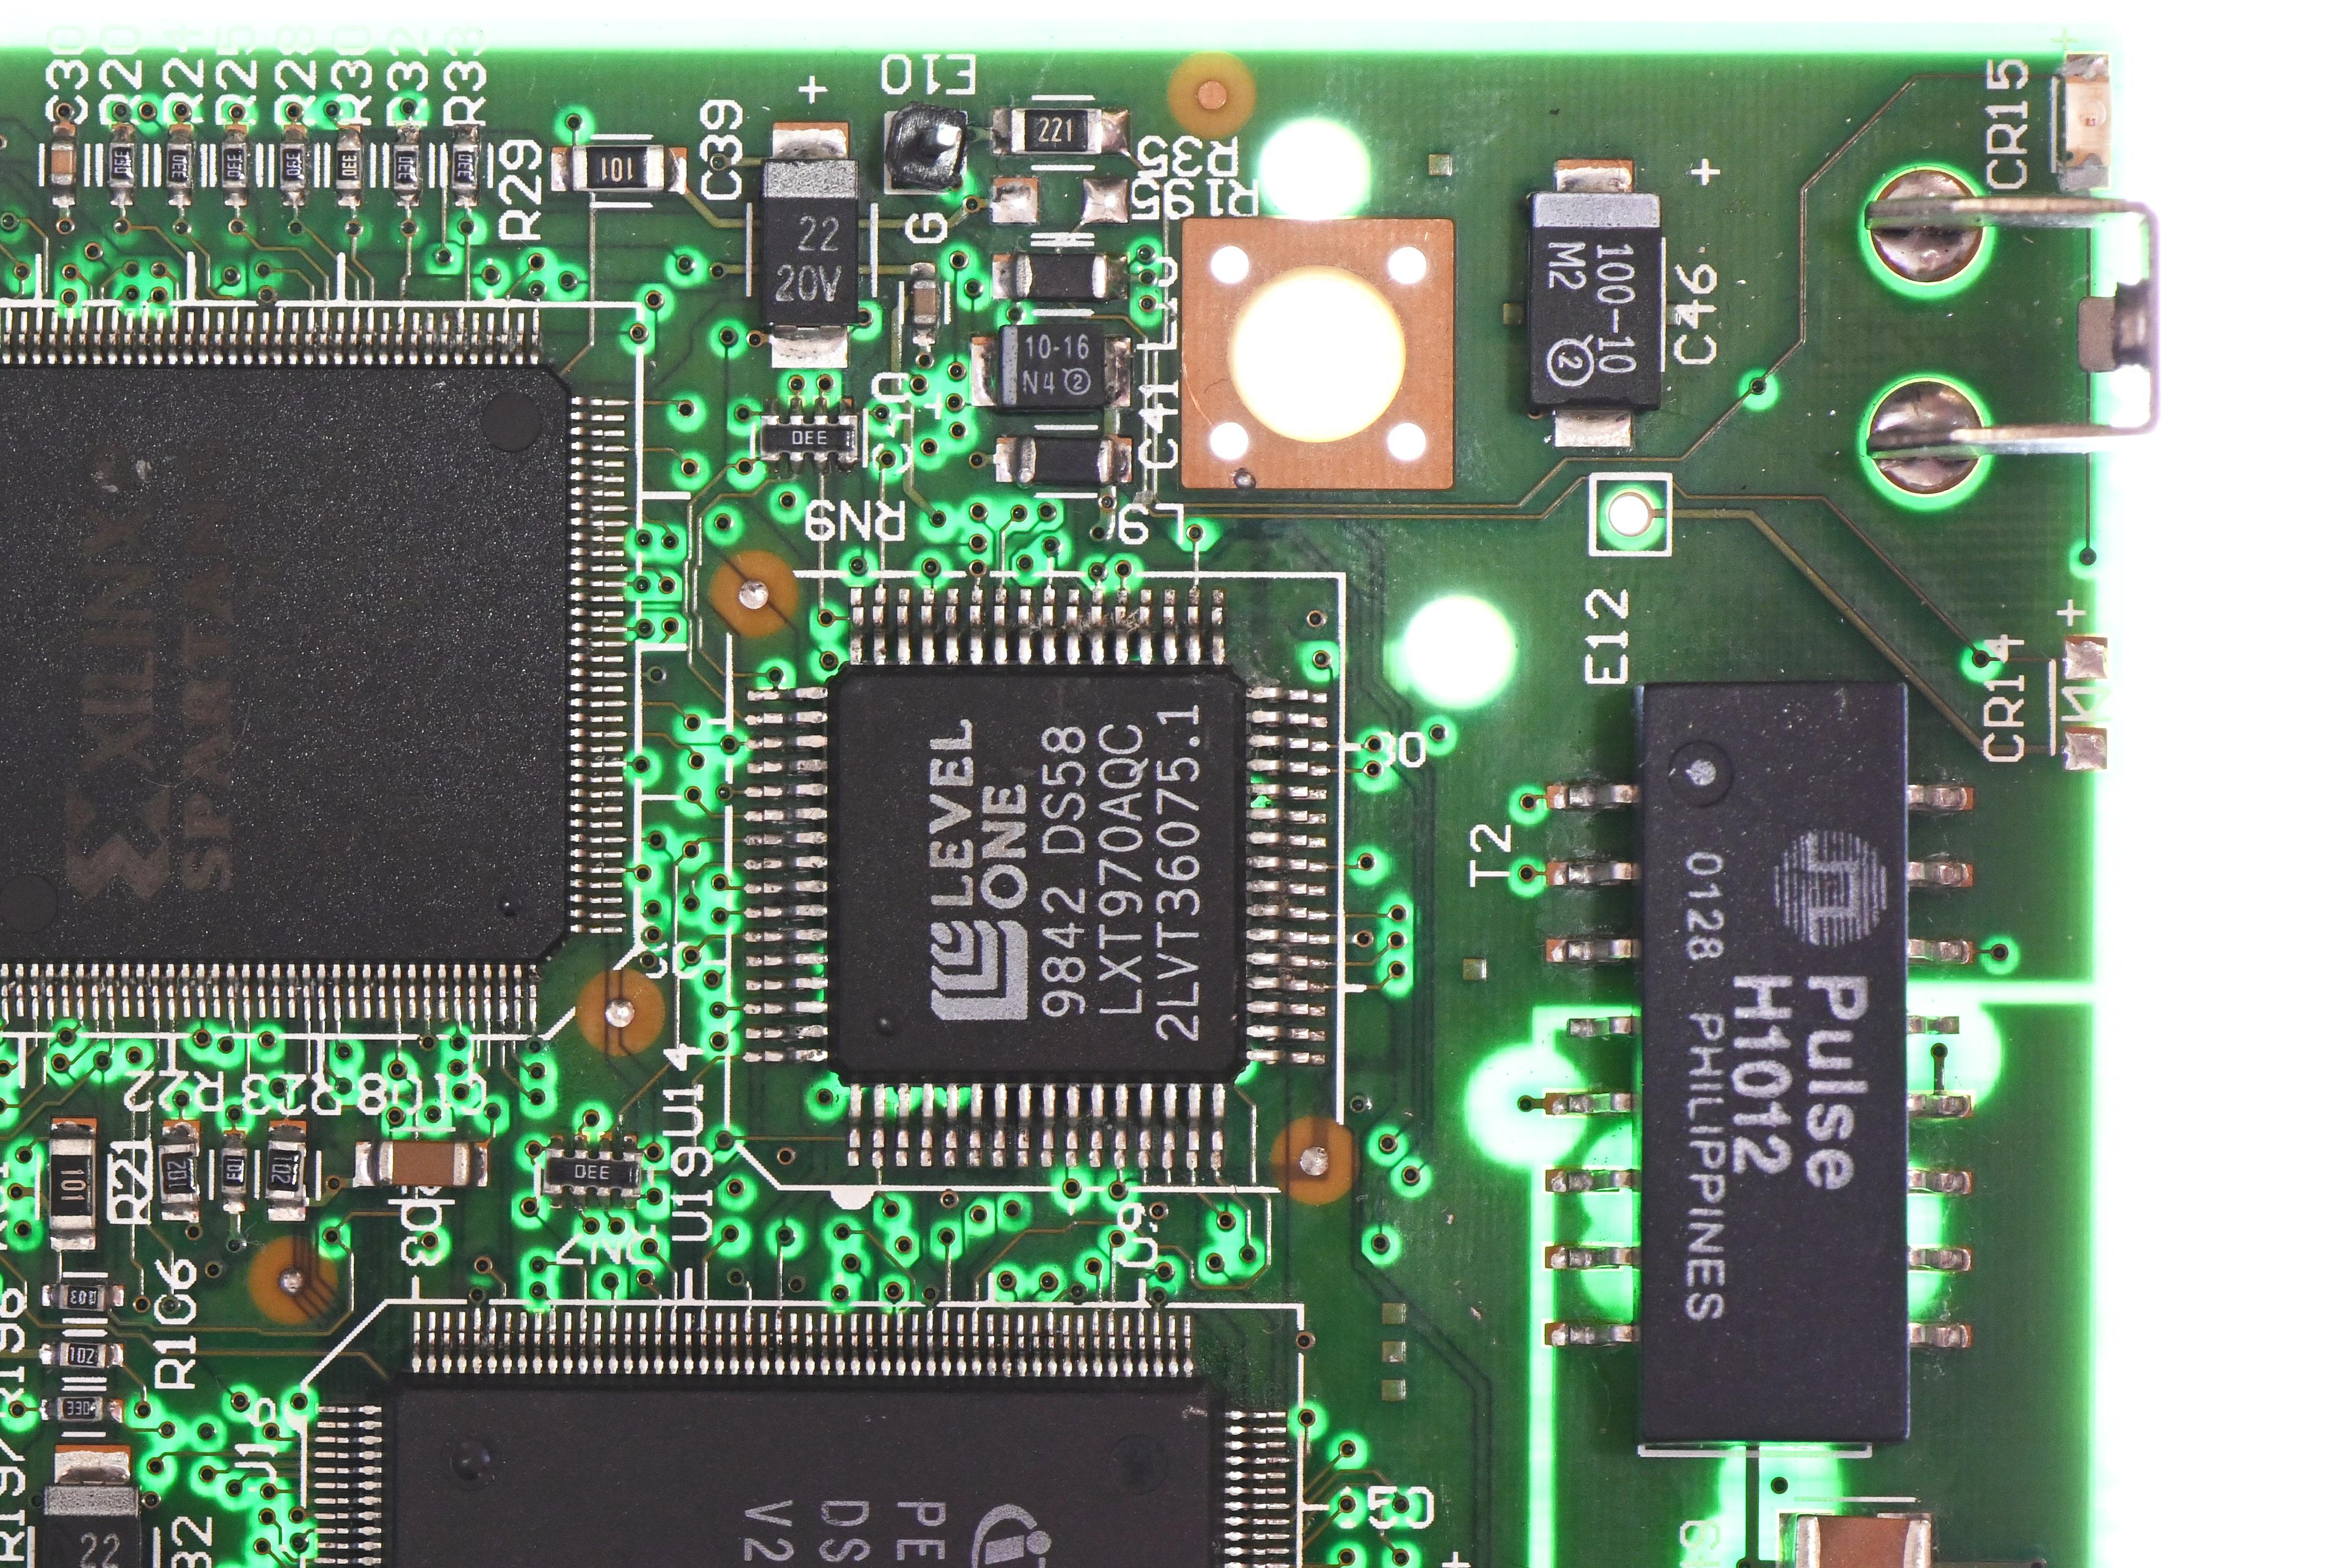ICs: (0, 355, 578, 976), (1629, 677, 1915, 1451), (817, 653, 1255, 1095), (376, 1363, 1242, 1568)
capacitors: (1519, 184, 1664, 416), (754, 156, 863, 329), (996, 322, 1111, 413), (38, 1479, 143, 1568), (1783, 1509, 1935, 1568), (375, 1137, 474, 1190), (908, 277, 942, 329), (45, 138, 77, 189)
inductors: (1015, 431, 1115, 488), (1010, 250, 1115, 303)
resistors: (754, 413, 861, 467), (44, 1134, 98, 1239), (539, 1146, 644, 1200), (569, 140, 667, 198), (1006, 103, 1104, 161), (156, 1139, 201, 1209), (261, 1136, 306, 1206), (56, 1337, 110, 1374), (54, 1279, 109, 1316), (217, 1143, 250, 1199), (388, 140, 422, 194), (331, 138, 364, 193), (448, 138, 481, 193), (105, 136, 138, 191), (277, 138, 310, 193), (217, 138, 250, 193), (163, 138, 194, 193), (54, 1391, 105, 1425)
